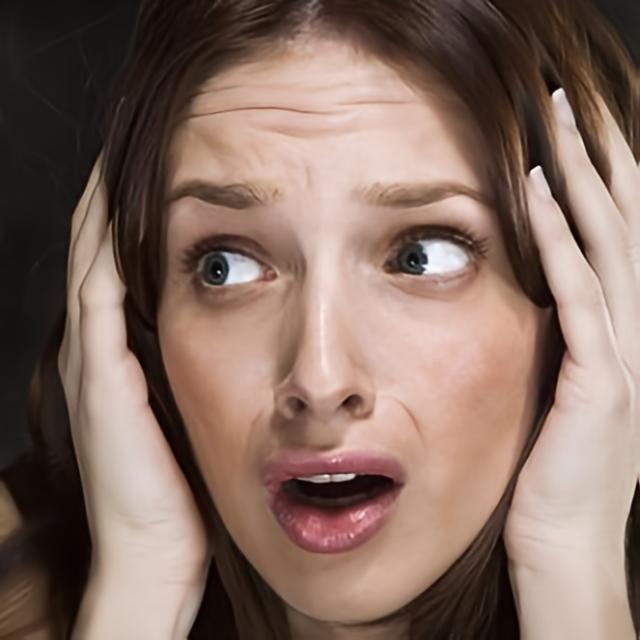fear: (156, 24, 555, 628)
